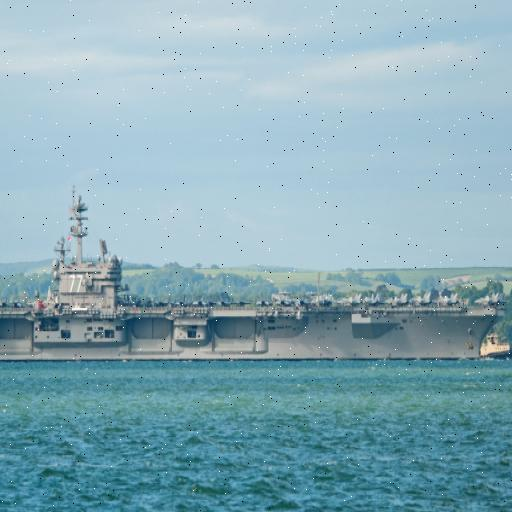Portanaves: (1, 166, 511, 365)
